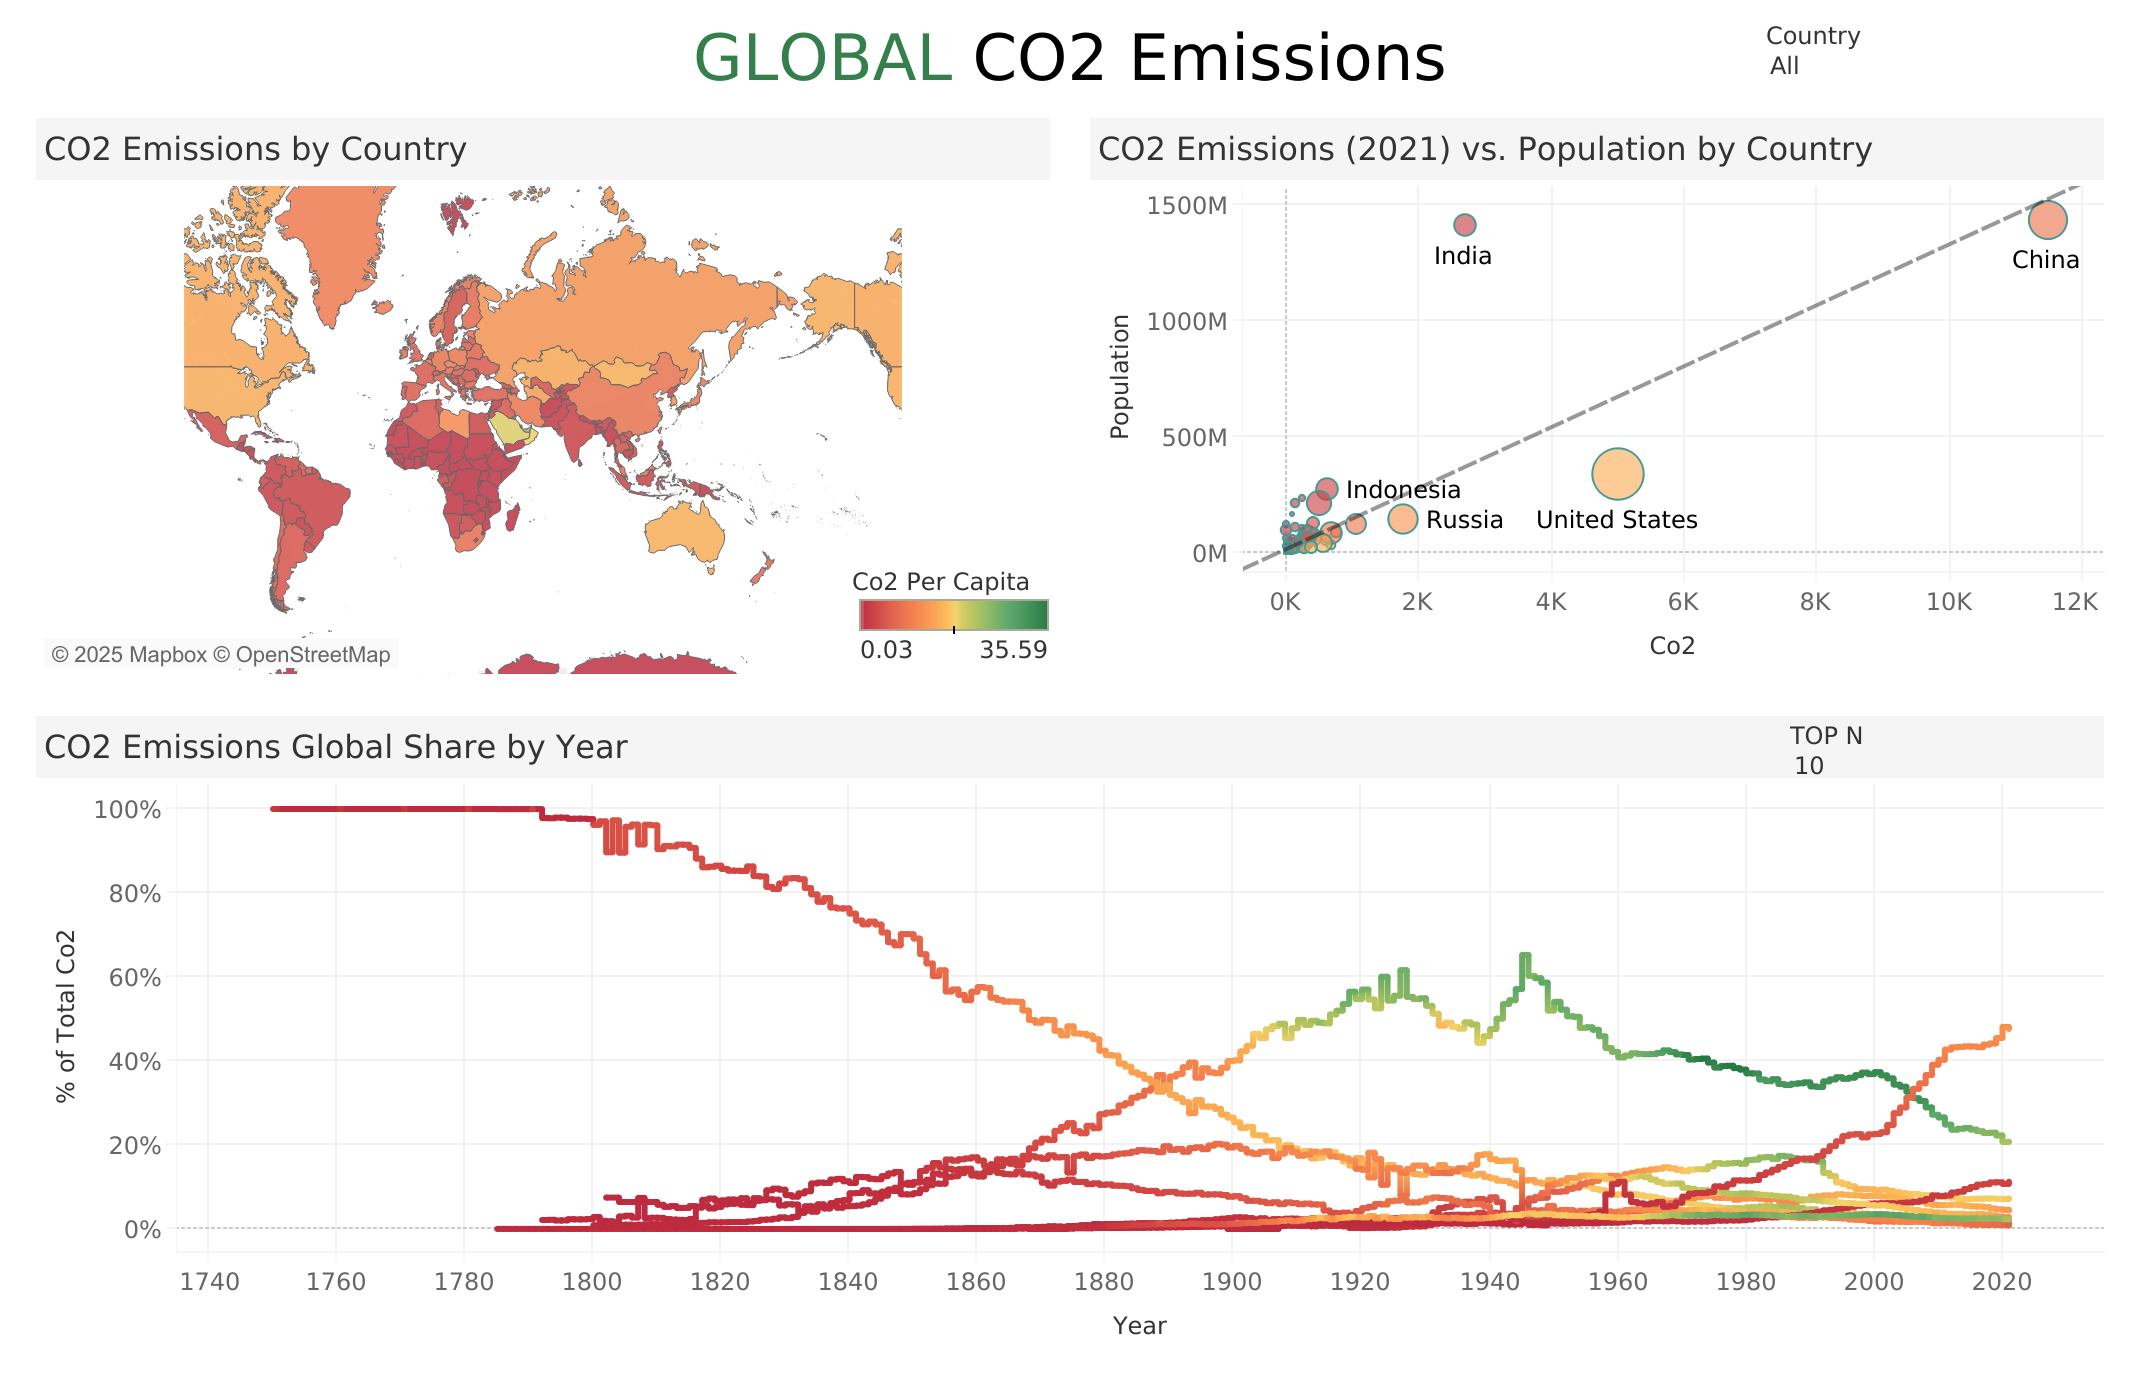

The page's visual inventory and layout, read from the dashboard file:
{"tool":"tableau","page":{"name":"Global CO2 Emission","canvas":[1000,1000],"units":"permille","ordinal":0},"visuals":[{"type":"text","box":[7.1,10.4,985.8,59.9]},{"type":"filter","title":"Map","param":"[federated.0e4bm5o19bq01410rmyi91y7rm9v].[none:Country (copy)_83316657176297472:","box":[825,13,149.2,54.7]},{"type":"worksheet","title":"Map","mark":"Automatic","box":[7.1,70.3,492.9,429.7]},{"type":"worksheet","title":"Scatter Plot","mark":"Circle","rows":["population"],"cols":["co2"],"box":[500,70.3,492.9,429.7]},{"type":"legend","title":"Map","param":"[federated.0e4bm5o19bq01410rmyi91y7rm9v].[sum:co2_per_capita:qk]","box":[397.9,401,96.8,88.5]},{"type":"worksheet","title":"Line Chart","mark":"Automatic","cols":["year"],"box":[7.1,500,985.8,489.6]},{"type":"parameter","param":"[Parameters].[Parameter 1]","box":[836.6,516.9,142.1,57.3]}]}

Visuals, with their boxes on the dashboard's canvas, which has no fixed pixel size, in thousandths of its width and height (x1, y1, x2, y2). These are canvas units, not pixel positions in the 2138x1388 screenshot, which may show the page scaled, cropped or inside an application window:
text: [left=7, top=10, right=993, bottom=70]
"Map" filter: [left=825, top=13, right=974, bottom=68]
"Map" worksheet: [left=7, top=70, right=500, bottom=500]
"Scatter Plot" worksheet (Circle marks): [left=500, top=70, right=993, bottom=500]
"Map" legend: [left=398, top=401, right=495, bottom=490]
"Line Chart" worksheet: [left=7, top=500, right=993, bottom=990]
parameter: [left=837, top=517, right=979, bottom=574]
